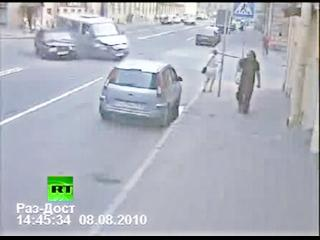Car: (97, 61, 179, 122), (58, 13, 128, 60), (35, 27, 78, 61), (197, 27, 220, 46)
Major Accident: (35, 13, 128, 61)
